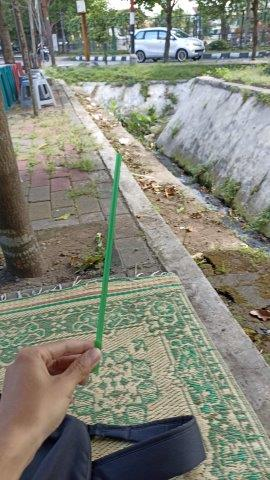sedotan: (92, 155, 121, 373)
